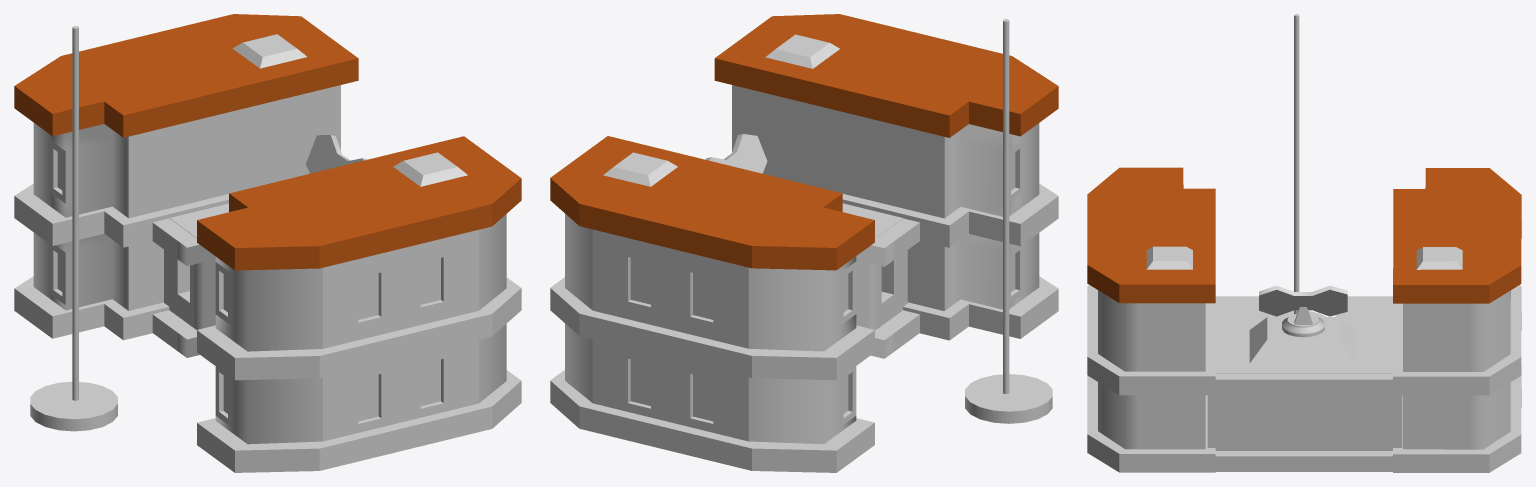
File: casa.fbx
3 views of the same model, side by side, from view 1: azimuth 30°, elevation 25°; view 2: azimuth 150°, elevation 25°; view 3: azimuth 270°, elevation 25° (orthographic). The views are drawn at different scales.
Parts seen in each view (by area): view 1: Box001, Box003, Box005, Cylinder002, Cylinder003, Box002, Box004, Box008; view 2: Box003, Box001, Box005, Cylinder002, Cylinder003, Box004, Box002, Box008; view 3: Box001, Box003, Box005, Box006, Box008, Cylinder003, Box002, Box004, Cylinder001.
Boxes of the visible parts, x1,y1,x2,y2 form: Box001: [197, 136, 521, 472]; Box003: [14, 14, 358, 340]; Box005: [152, 203, 228, 357]; Cylinder002: [30, 381, 117, 431]; Cylinder003: [72, 26, 78, 400]; Box002: [393, 152, 467, 186]; Box004: [233, 34, 306, 68]; Box008: [306, 135, 367, 173]; Box003: [550, 136, 874, 472]; Box001: [714, 14, 1058, 340]; Box005: [842, 203, 919, 358]; Cylinder002: [965, 374, 1052, 423]; Cylinder003: [1003, 19, 1009, 393]; Box004: [603, 152, 677, 186]; Box002: [765, 34, 839, 68]; Box008: [705, 134, 767, 173]; Box001: [1087, 167, 1215, 472]; Box003: [1393, 168, 1521, 472]; Box005: [1207, 296, 1402, 471]; Box006: [1249, 317, 1355, 363]; Box008: [1259, 285, 1347, 316]; Cylinder003: [1294, 14, 1299, 314]; Box002: [1146, 246, 1192, 269]; Box004: [1416, 247, 1462, 269]; Cylinder001: [1282, 314, 1324, 337].
Size of the model in its own units: 67.87 by 65.35 by 79.99.
